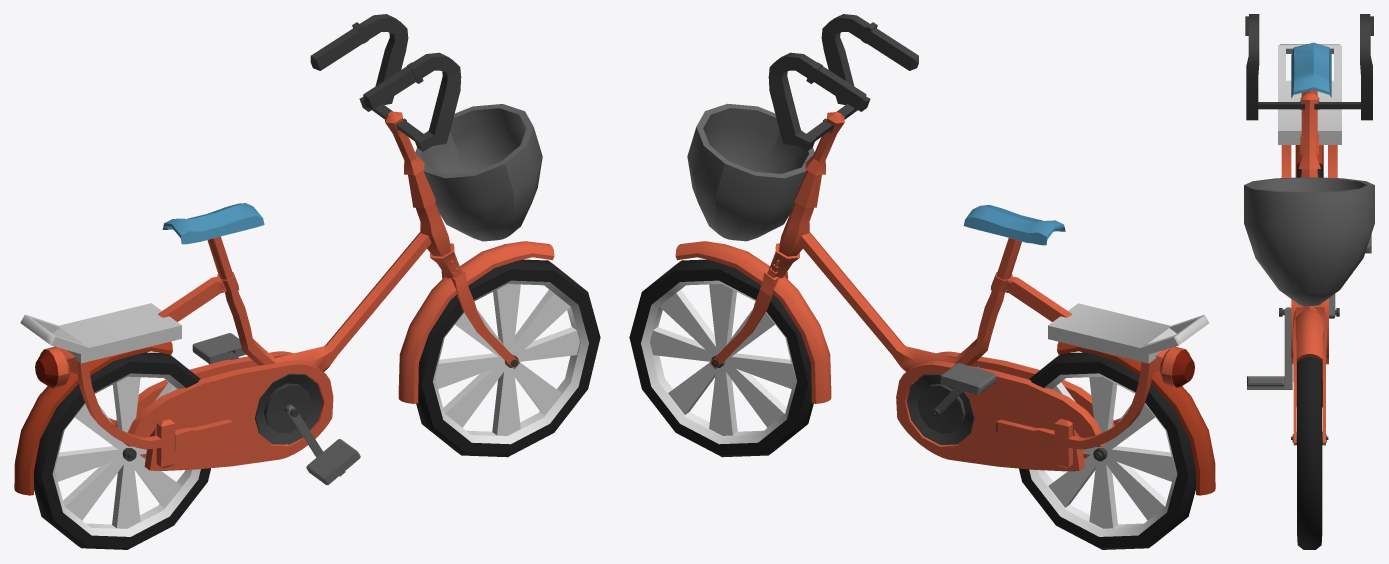
File: bike .fbx
3 views of the same model, side by side, from view 1: azimuth 30°, elevation 25°; view 2: azimuth 150°, elevation 25°; view 3: azimuth 270°, elevation 25° (orthographic). The views are drawn at different scales.
Parts seen in each view (by area): view 1: Cycle, Handle, FR_Tyre, BK_Tyre, Paddle; view 2: Cycle, Handle, FR_Tyre, BK_Tyre, Paddle; view 3: Handle, Cycle, FR_Tyre, Paddle.
Part boxes in pixels (x1=…): Cycle: x1=14, y1=203, x2=431, y2=495; Handle: x1=310, y1=14, x2=554, y2=403; FR_Tyre: x1=416, y1=259, x2=600, y2=457; BK_Tyre: x1=34, y1=352, x2=210, y2=549; Paddle: x1=192, y1=333, x2=360, y2=485; Cycle: x1=798, y1=205, x2=1215, y2=495; Handle: x1=675, y1=14, x2=918, y2=403; FR_Tyre: x1=629, y1=259, x2=813, y2=457; BK_Tyre: x1=1019, y1=352, x2=1195, y2=549; Paddle: x1=935, y1=363, x2=996, y2=445; Handle: x1=1244, y1=14, x2=1374, y2=445; Cycle: x1=1278, y1=42, x2=1341, y2=364; FR_Tyre: x1=1297, y1=357, x2=1322, y2=549; Paddle: x1=1247, y1=234, x2=1371, y2=389.
Bounding box in the file's own units: 319 × 232 × 58.97.
